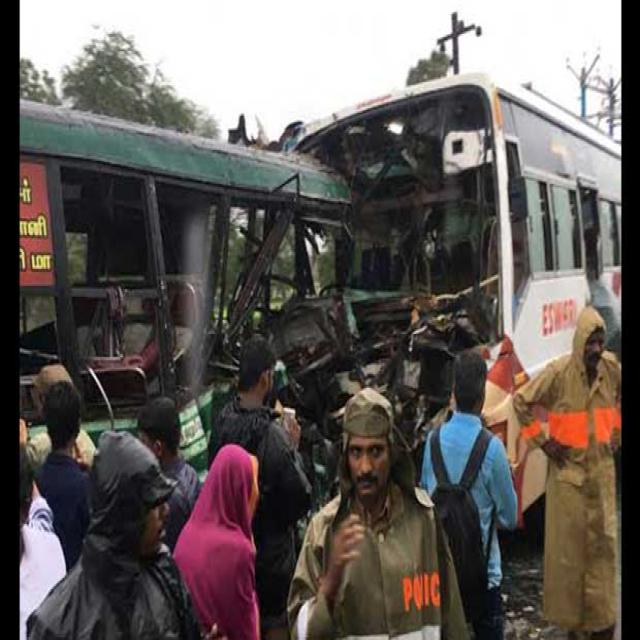accident: (275, 75, 620, 508), (21, 101, 351, 415)
